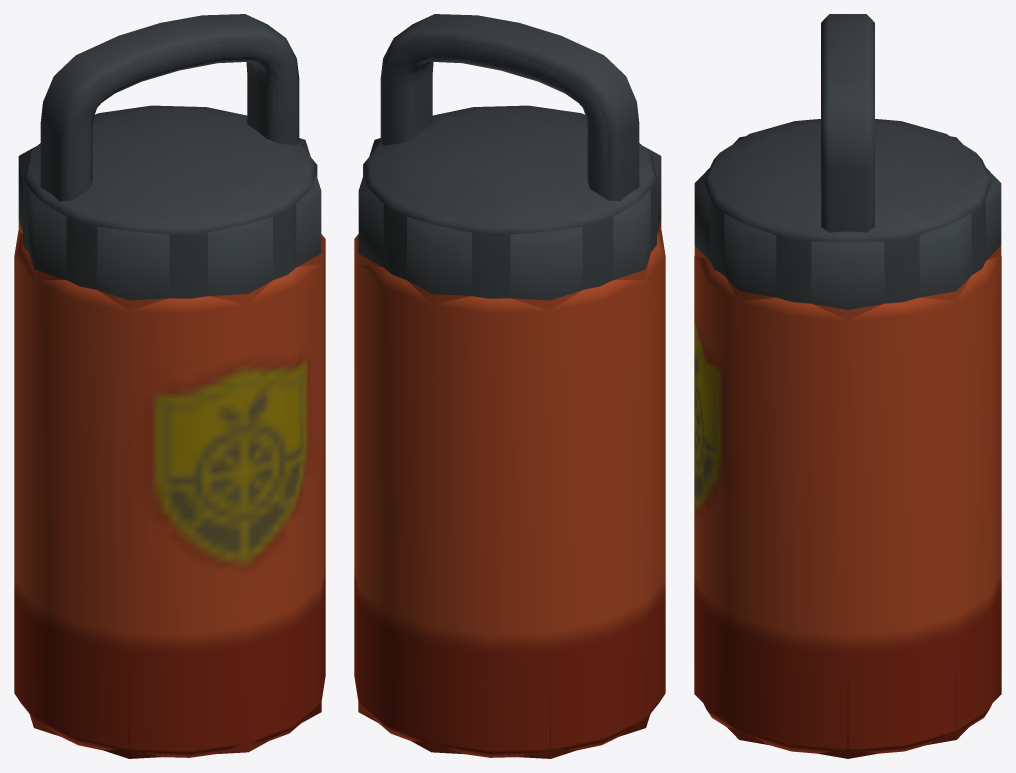
The model's file is pi_waterbottle01_01.gltf.
The picture shows the model from 3 angles, left to right: view 1: azimuth 30°, elevation 25°; view 2: azimuth 150°, elevation 25°; view 3: azimuth 270°, elevation 25°; orthographic projection. The views are drawn at different scales.
Parts seen in each view (by area): view 1: um_pi_waterbottle01_01_model_lod0Shape:pi_waterbottle01_01_o, um_pi_waterbottle01_01_model_lod2Shape:pi_waterbottle01_01_o, um_pi_waterbottle01_01_model_lod1Shape:pi_waterbottle01_01_o; view 2: um_pi_waterbottle01_01_model_lod0Shape:pi_waterbottle01_01_o, um_pi_waterbottle01_01_model_lod2Shape:pi_waterbottle01_01_o, um_pi_waterbottle01_01_model_lod1Shape:pi_waterbottle01_01_o; view 3: um_pi_waterbottle01_01_model_lod0Shape:pi_waterbottle01_01_o, um_pi_waterbottle01_01_model_lod2Shape:pi_waterbottle01_01_o.
Boxes of the visible parts, box(x1,y1,x2,y2) form: um_pi_waterbottle01_01_model_lod0Shape:pi_waterbottle01_01_o: box(14, 14, 325, 757); um_pi_waterbottle01_01_model_lod2Shape:pi_waterbottle01_01_o: box(18, 95, 321, 758); um_pi_waterbottle01_01_model_lod1Shape:pi_waterbottle01_01_o: box(72, 42, 296, 199); um_pi_waterbottle01_01_model_lod0Shape:pi_waterbottle01_01_o: box(354, 14, 665, 757); um_pi_waterbottle01_01_model_lod2Shape:pi_waterbottle01_01_o: box(358, 95, 661, 758); um_pi_waterbottle01_01_model_lod1Shape:pi_waterbottle01_01_o: box(384, 40, 608, 198); um_pi_waterbottle01_01_model_lod0Shape:pi_waterbottle01_01_o: box(694, 14, 1001, 753); um_pi_waterbottle01_01_model_lod2Shape:pi_waterbottle01_01_o: box(694, 136, 1001, 758).
Bounding box in the file's own units: 0.1521 × 0.3553 × 0.1521.
1 material, 1 textured.
